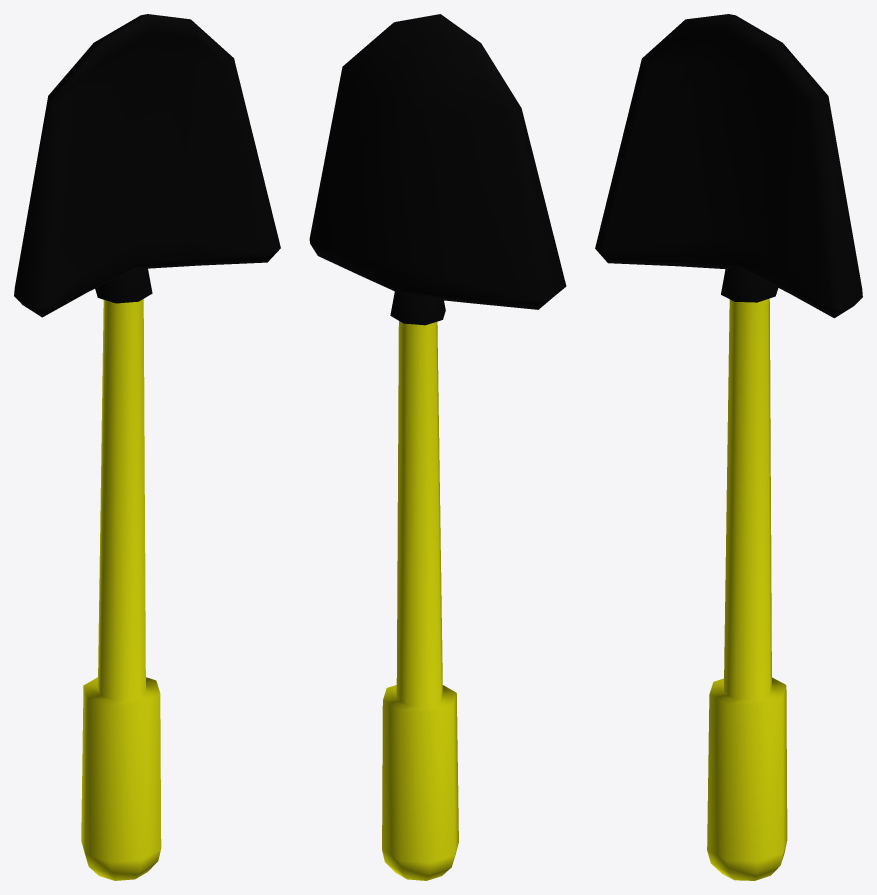
The model's file is Shovel.fbx.
3 renders of one model, left to right at view 1: azimuth 30°, elevation 25°; view 2: azimuth 150°, elevation 25°; view 3: azimuth 330°, elevation 25°, orthographic. The views are drawn at different scales.
Visible parts, largest first — view 1: Shovel; view 2: Shovel; view 3: Shovel.
Part boxes in pixels (x1,y1,x2,y2): Shovel: (14,14,280,880); Shovel: (309,14,566,880); Shovel: (595,14,862,880).
Bounding box in the file's own units: 30.16 × 101 × 11.63.
